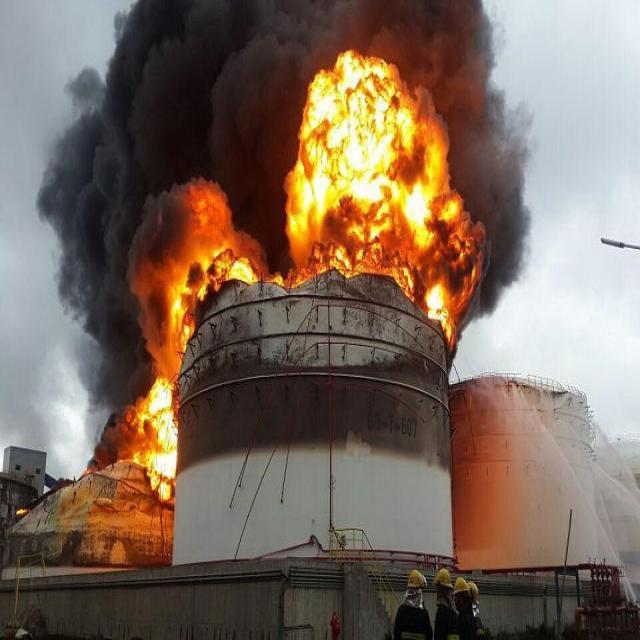Fire: (266, 48, 479, 346), (170, 246, 260, 354), (132, 374, 178, 502)
Smoke: (32, 1, 260, 237), (5, 240, 130, 458), (453, 38, 549, 206), (264, 0, 501, 55), (476, 215, 542, 336), (130, 242, 166, 368)
